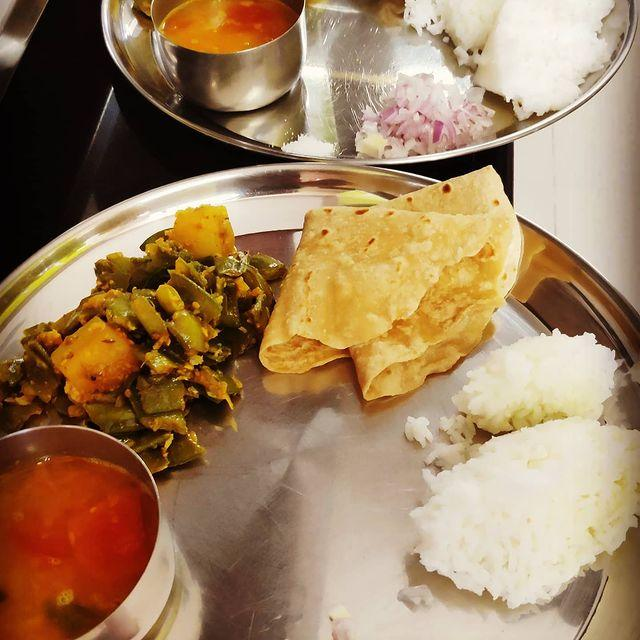Roti: (263, 177, 516, 395)
White Rice: (399, 303, 632, 623)
